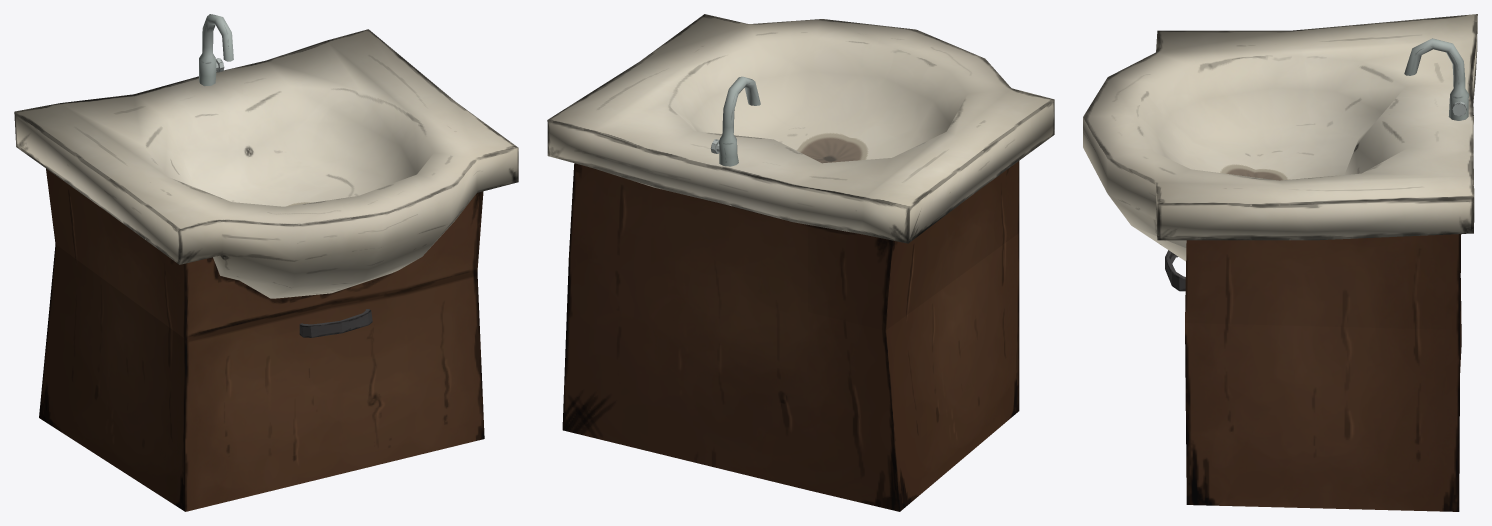
The model's file is Sink.fbx.
3 views of the same model, side by side, from view 1: azimuth 30°, elevation 25°; view 2: azimuth 150°, elevation 25°; view 3: azimuth 270°, elevation 25° (orthographic). The views are drawn at different scales.
Visible parts, largest first — view 1: Sink; view 2: Sink; view 3: Sink.
Part boxes in pixels (x1,y1,x2,y2): Sink: (14,14,518,511); Sink: (547,14,1054,511); Sink: (1083,14,1477,511).
Bounding box in the file's own units: 134 × 136 × 124.
1 material, 1 textured.
